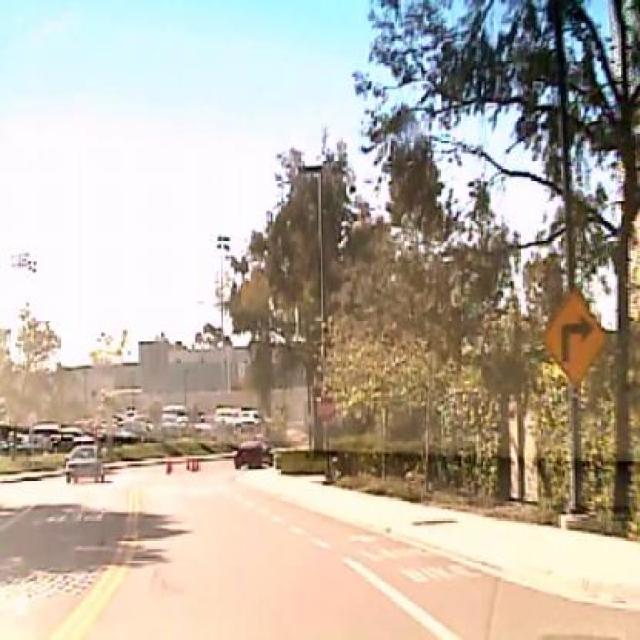stop: (317, 395, 336, 423)
turnRight: (542, 289, 606, 388)
